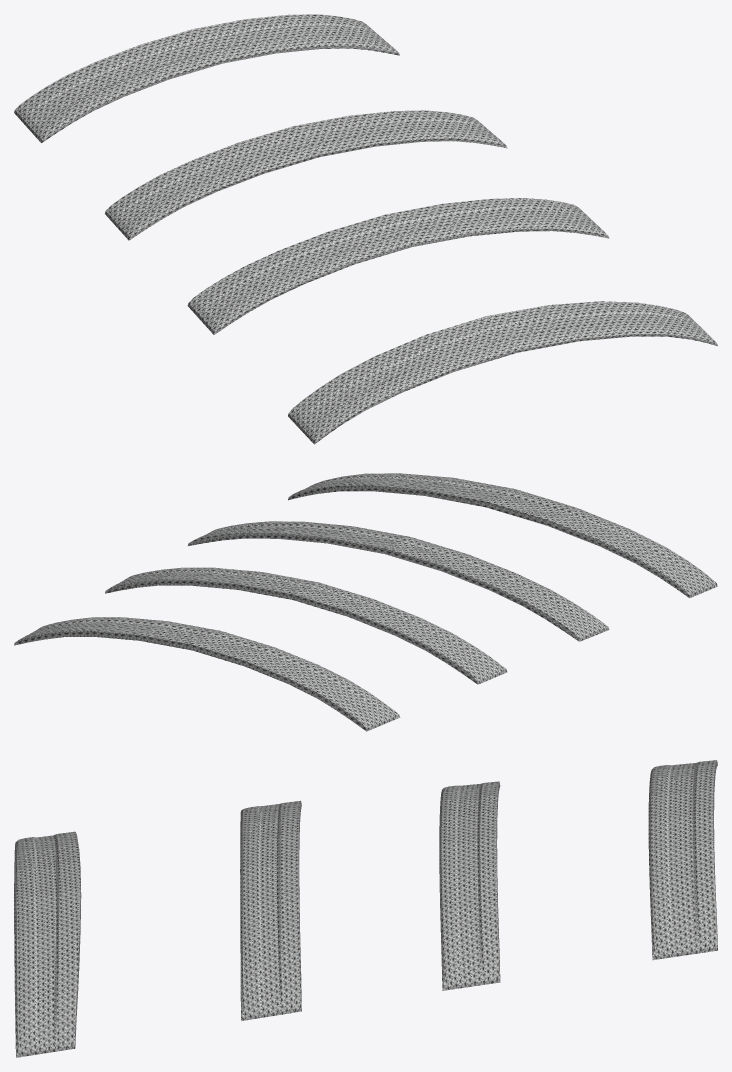
Rendered from 349_Ribs-e53a56a8.glb.
3 renders of one model, top to bottom at view 1: azimuth 30°, elevation 25°; view 2: azimuth 150°, elevation 25°; view 3: azimuth 270°, elevation 25°, orthographic. The views are drawn at different scales.
Parts seen in each view (by area): view 1: Ribs; view 2: Ribs; view 3: Ribs.
Part boxes in pixels (x1,y1,x2,y2): Ribs: (14, 14, 717, 444); Ribs: (14, 473, 717, 731); Ribs: (14, 760, 717, 1057).
Size of the model in its own units: 0.1774 by 0.0544 by 0.2488.
Materials: 4 (4 with a texture image).
